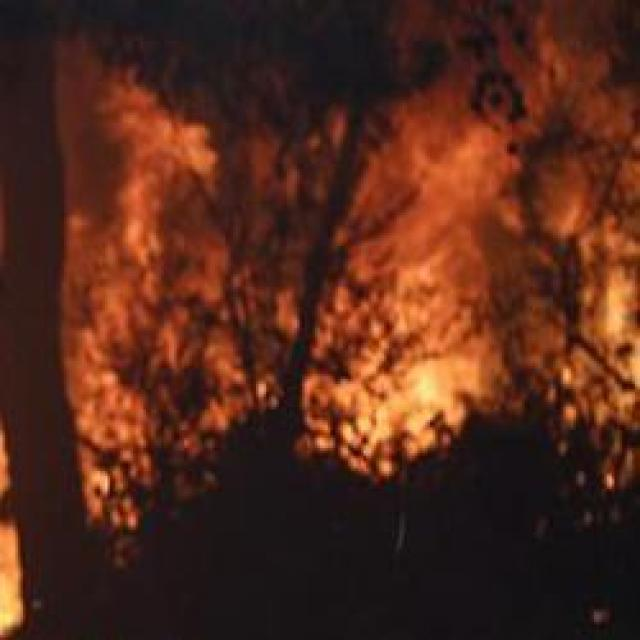fire: (0, 0, 628, 494)
